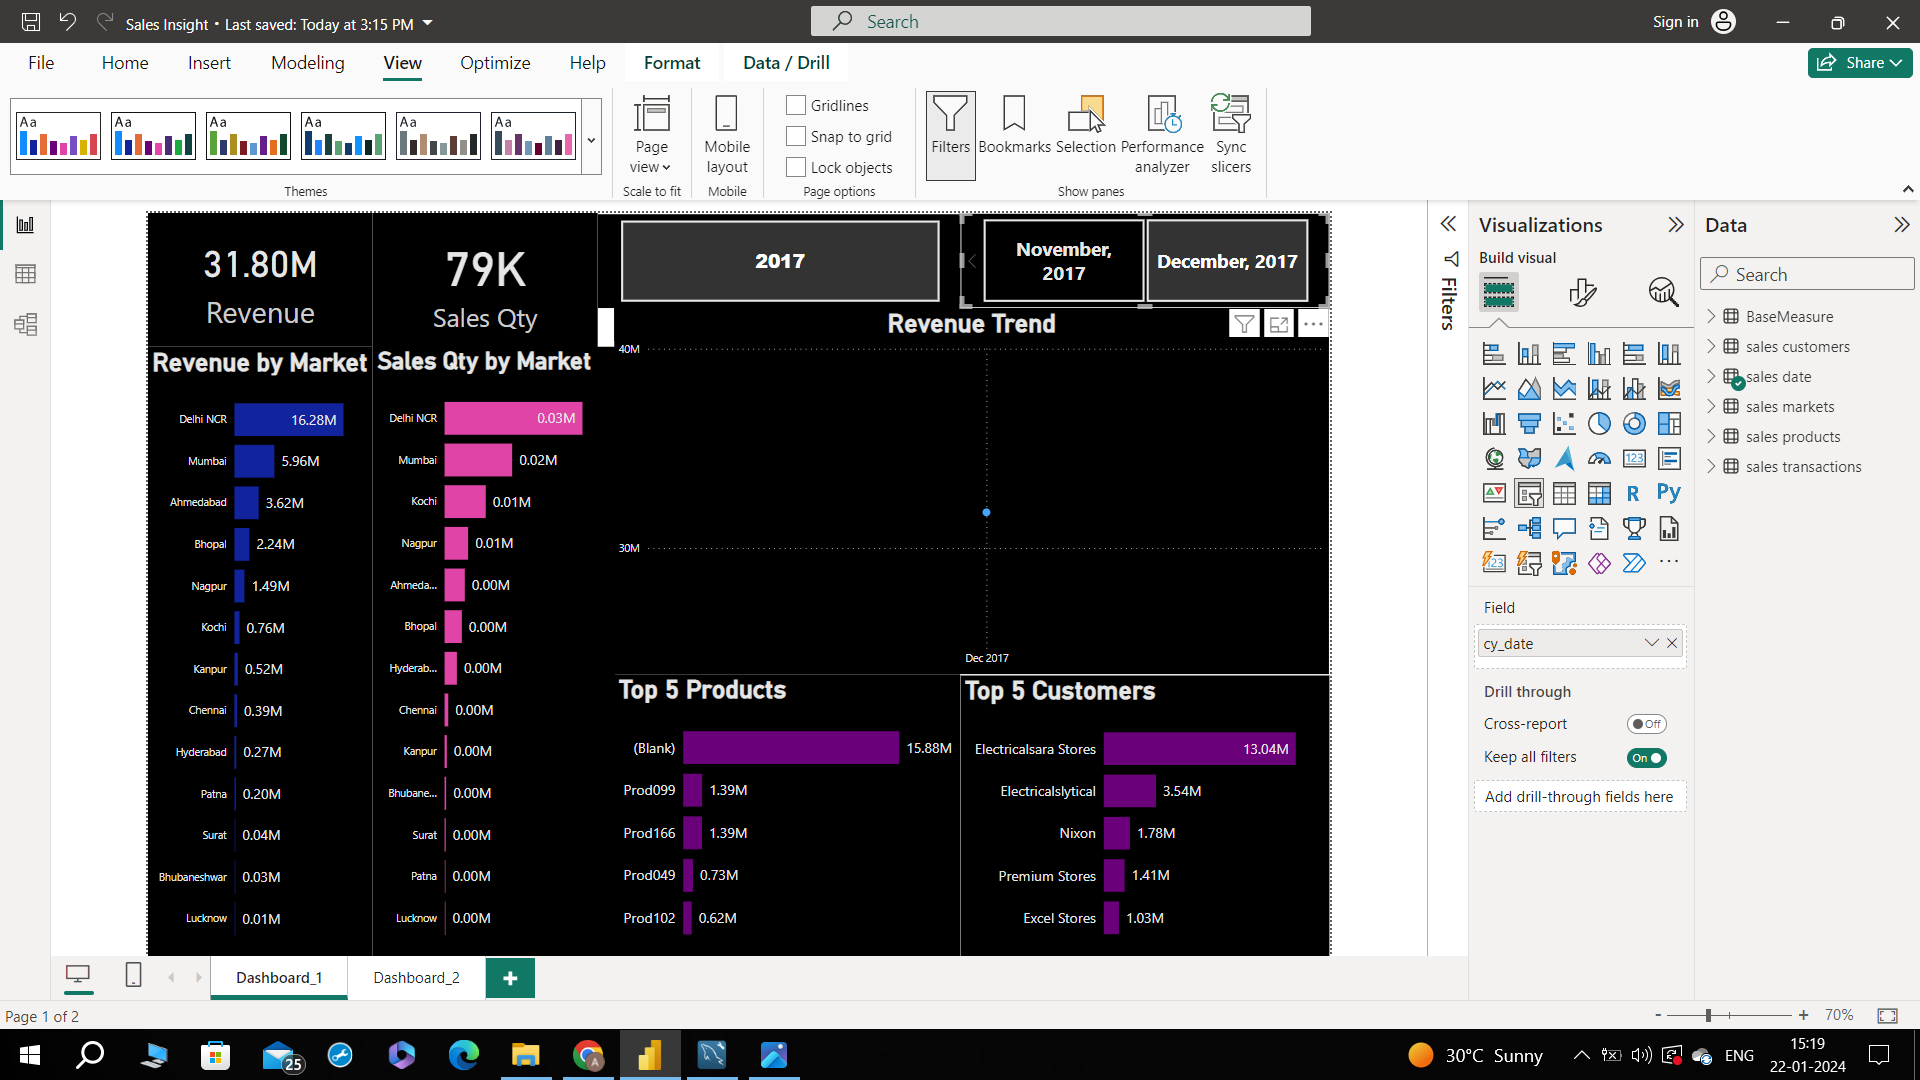

What the dashboard file says about the page in this screenshot:
{"tool":"powerbi","page":{"name":"Dashboard_1","canvas":[1350,850],"ordinal":0},"visuals":[{"type":"card","fields":{"Values":["BaseMeasure.Revenue"]},"box":[0,0,257.1,152.9],"z":0},{"type":"card","fields":{"Values":["BaseMeasure.Sales Qty"]},"box":[256.7,0,256.7,153.3],"z":1000},{"type":"barChart","title":"Revenue by Market","fields":{"Y":["BaseMeasure.Revenue"],"Category":["sales markets.markets_name"]},"box":[0,152.9,257.1,697.1],"z":2000},{"type":"barChart","title":"Sales Qty by Market","fields":{"Y":["BaseMeasure.Sales Qty"],"Category":["sales markets.markets_name"]},"box":[256.7,153.3,276.7,696.7],"z":3000},{"type":"slicer","title":"Year","fields":{"Values":["sales date.year"]},"box":[514.3,1.4,414.3,107.1],"z":4000},{"type":"slicer","fields":{"Values":["sales date.cy_date"]},"box":[928.6,0,421.4,108.6],"z":5000},{"type":"barChart","title":"Top 5 Customers","fields":{"Y":["BaseMeasure.Revenue"],"Category":["sales customers.custmer_name"]},"box":[928.6,528.6,421.4,321.4],"z":6000},{"type":"barChart","title":"Top 5 Products","fields":{"Y":["BaseMeasure.Revenue"],"Category":["sales products.product_code"]},"box":[533.3,526.7,395,323.3],"z":7000},{"type":"lineChart","title":"Revenue Trend","fields":{"Y":["BaseMeasure.Revenue"],"Category":["sales date.cy_date"]},"box":[532.9,108.6,817.1,418.6],"z":8000}]}

Visuals, with their boxes on the page's 1350x850 design canvas (x1, y1, x2, y2). These are canvas units, not pixel positions in the 1920x1080 screenshot, which may show the page scaled, cropped or inside an application window:
card - BaseMeasure.Revenue: 0 0 257 153
card - BaseMeasure.Sales Qty: 257 0 513 153
"Revenue by Market" barChart: 0 153 257 850
"Sales Qty by Market" barChart: 257 153 533 850
"Year" slicer: 514 1 929 108
slicer - sales date.cy_date: 929 0 1350 109
"Top 5 Customers" barChart: 929 529 1350 850
"Top 5 Products" barChart: 533 527 928 850
"Revenue Trend" lineChart: 533 109 1350 527
